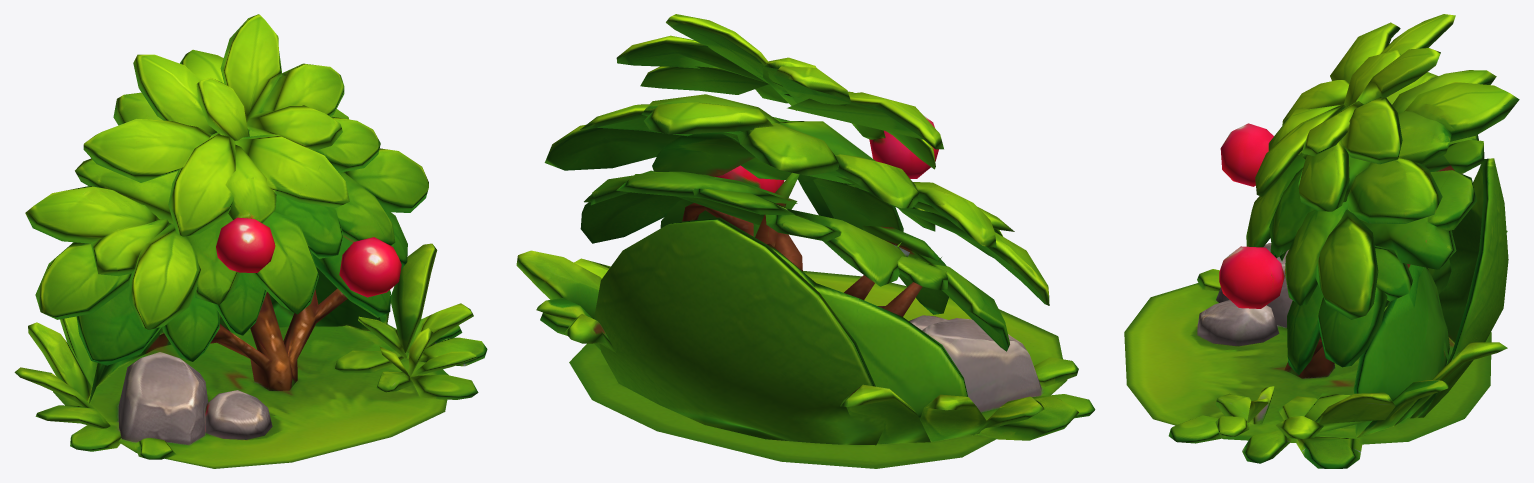
The model's file is etapa50.glb.
The picture shows the model from 3 angles, left to right: view 1: azimuth 30°, elevation 25°; view 2: azimuth 150°, elevation 25°; view 3: azimuth 270°, elevation 25°; orthographic projection. The views are drawn at different scales.
Bounding box in the file's own units: 1 × 0.7236 × 0.7606.
1 material, 1 textured.
